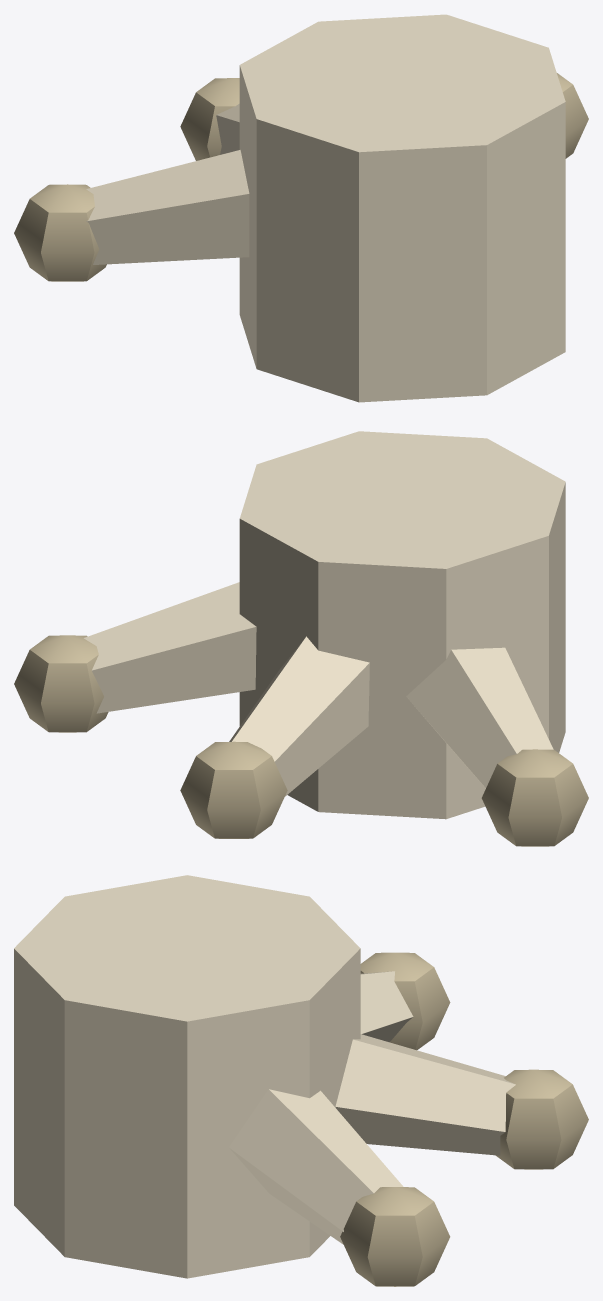
File: organ_spine_segment.glb
3 renders of one model, top to bottom at view 1: azimuth 30°, elevation 25°; view 2: azimuth 150°, elevation 25°; view 3: azimuth 270°, elevation 25°, orthographic. The views are drawn at different scales.
Visible parts, largest first — view 1: organ_spine_segment; view 2: organ_spine_segment; view 3: organ_spine_segment.
Boxes of the visible parts, bbox=[...] form: organ_spine_segment: bbox=[14, 14, 588, 402]; organ_spine_segment: bbox=[14, 431, 588, 846]; organ_spine_segment: bbox=[14, 875, 588, 1286].
Size of the model in its own units: 0.0516 by 0.0225 by 0.0456.
